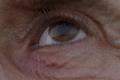eye: (50, 22, 78, 41)
